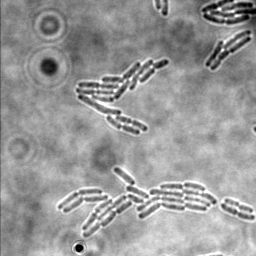Dividing: (219, 203, 256, 222), (223, 198, 254, 215)
Microcolony: (57, 166, 217, 238), (75, 58, 170, 136), (204, 29, 252, 72), (200, 0, 256, 26)
